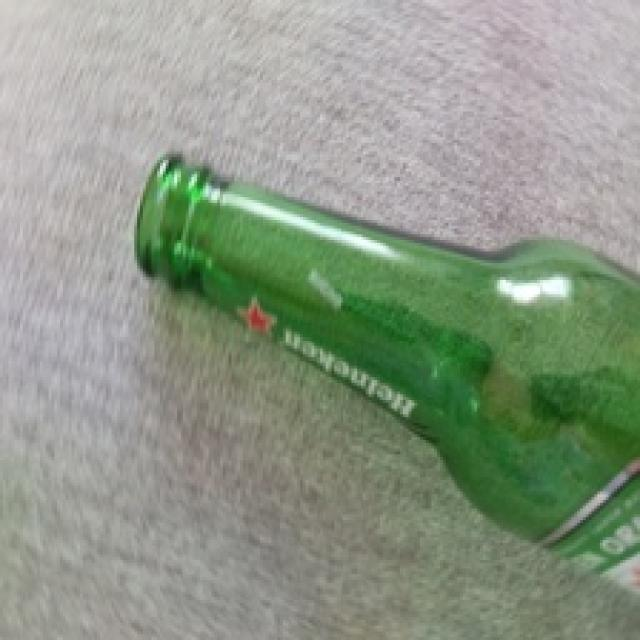Glass: (134, 152, 640, 600)
